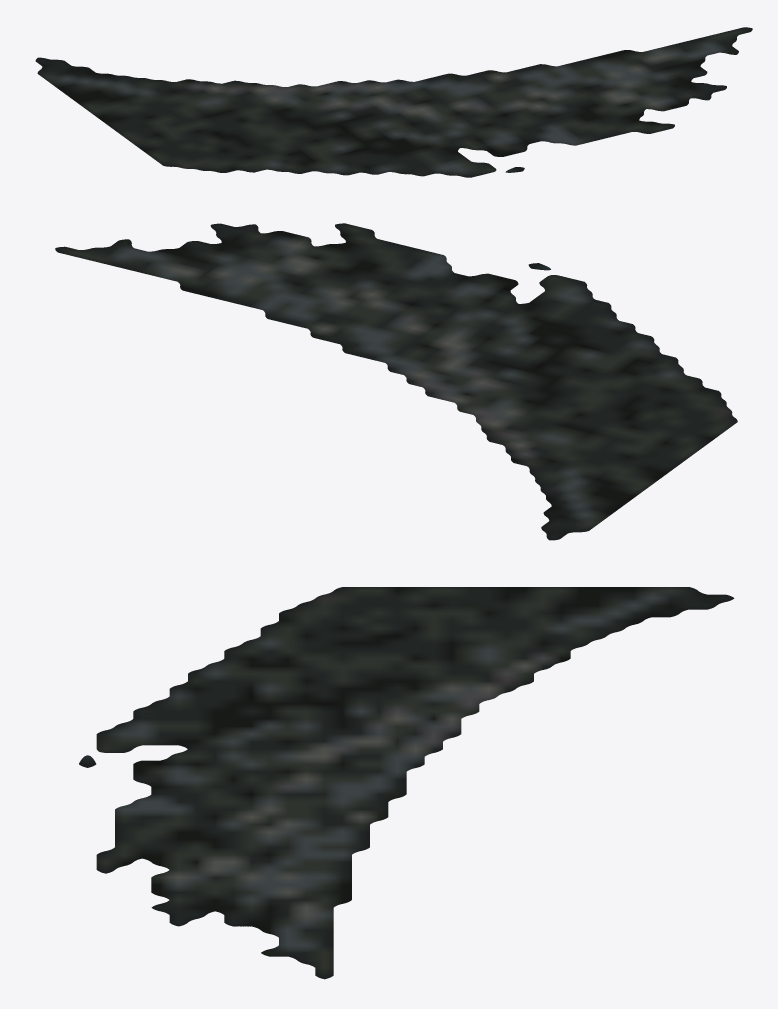
File: SM_EC_Tree_Part_Card_04.fbx
The picture shows the model from 3 angles, top to bottom: view 1: azimuth 30°, elevation 25°; view 2: azimuth 150°, elevation 25°; view 3: azimuth 270°, elevation 25°; orthographic projection. The views are drawn at different scales.
Parts seen in each view (by area): view 1: SM_EC_Tree_Part_Card_04; view 2: SM_EC_Tree_Part_Card_04; view 3: SM_EC_Tree_Part_Card_04.
Part boxes in pixels (x1=…): SM_EC_Tree_Part_Card_04: x1=35, y1=27, x2=752, y2=177; SM_EC_Tree_Part_Card_04: x1=55, y1=223, x2=737, y2=540; SM_EC_Tree_Part_Card_04: x1=79, y1=587, x2=734, y2=979.
Size of the model in its own units: 0.8451 by 0.6429 by 3.58e-10.
